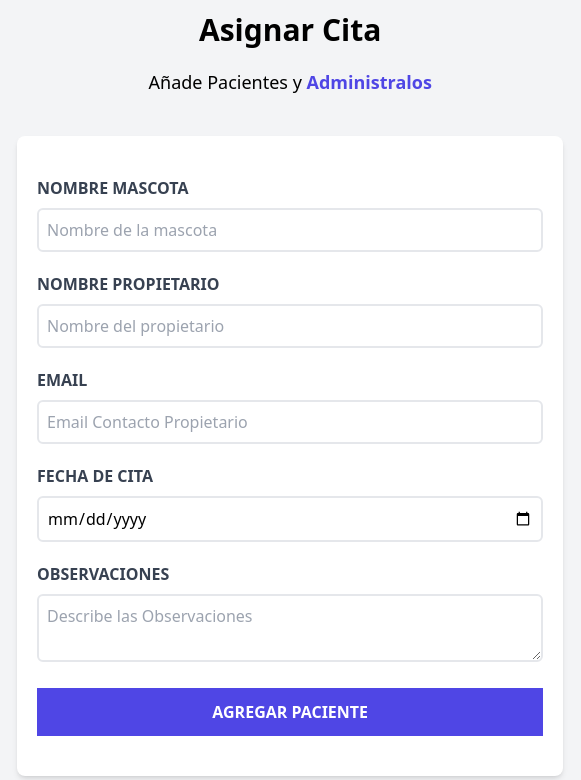
Formulario › deber�a mostrar un error si el campo nombre est� vac�o y el formulario es enviado
In the field labelled "Nombre Propietario": (290, 326) [37,304,543,348], type "Juan Perez"
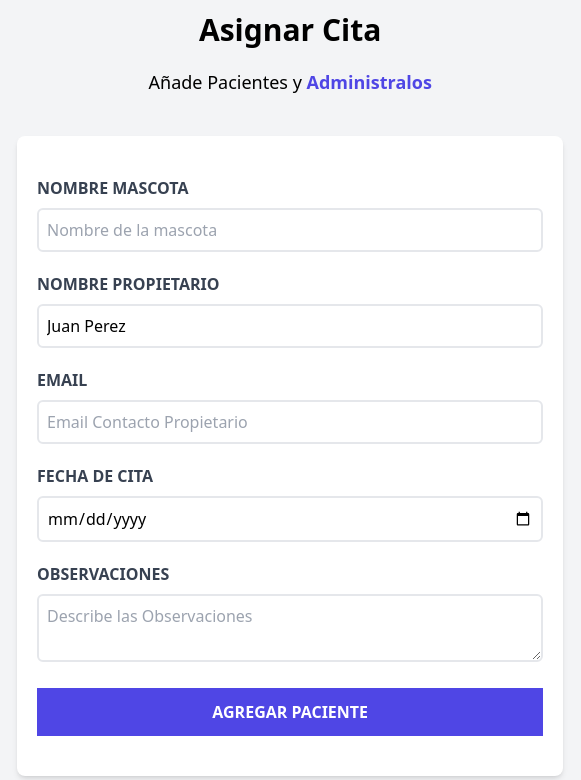
In the field labelled "Email": (290, 422) [37,400,543,444], type "juan@example.com"
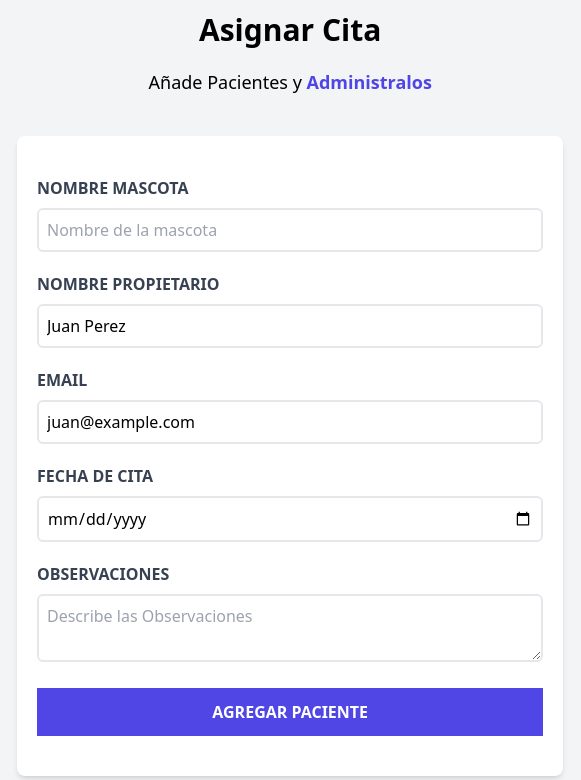
In the date field labelled "Fecha de Cita": (290, 519) [37,496,543,542], type "2025-12-12"
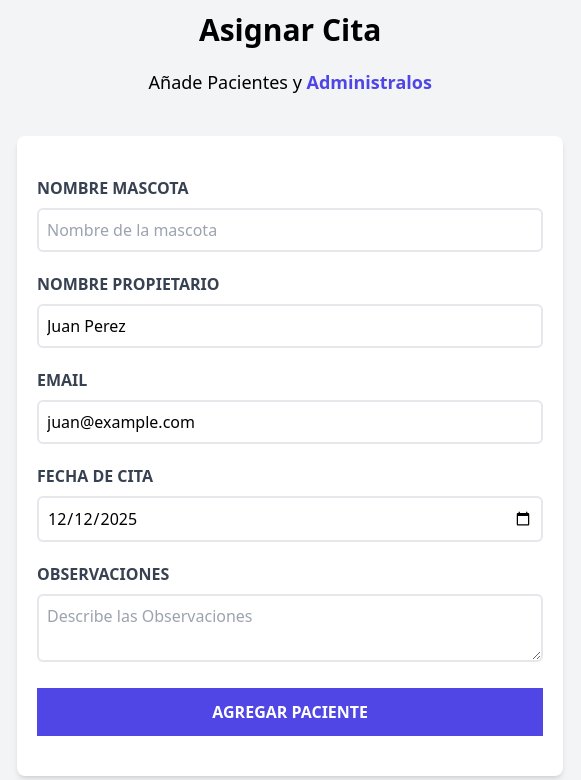
In the text box labelled "Observaciones": (290, 628) [37,594,543,662], type "Paciente saludable"
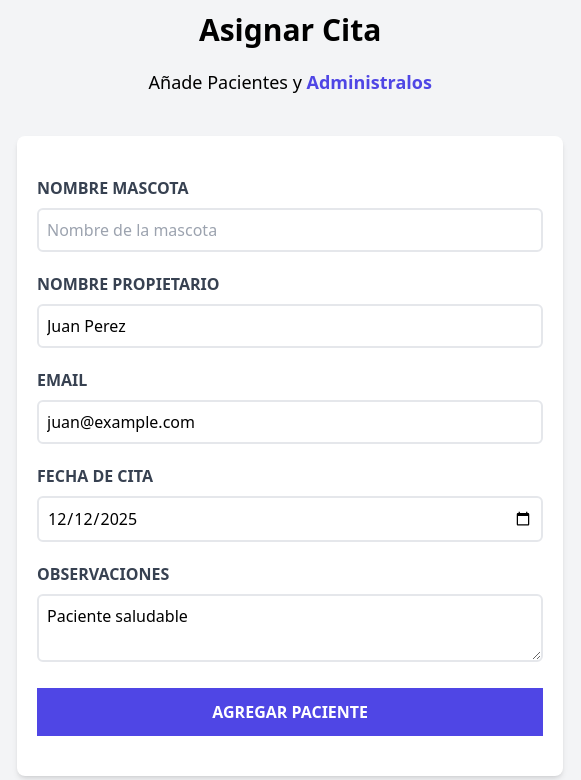
Click the button "Agregar paciente": (290, 712) [37,688,543,736]
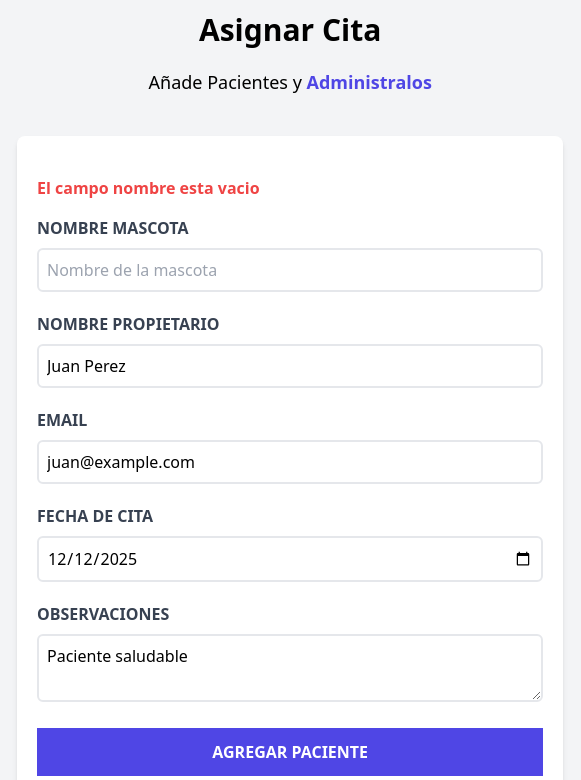
Expected: the text "El campo nombre esta vacio" is shown, [37,177,260,199]
